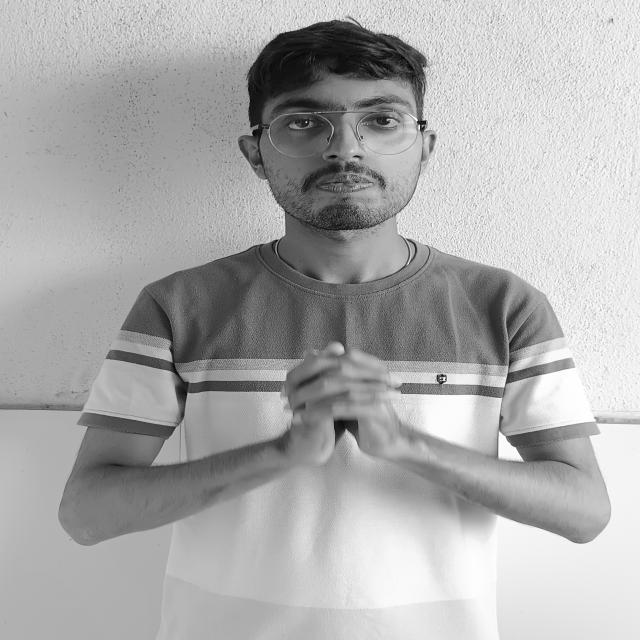Sorry: (249, 332, 449, 480)
